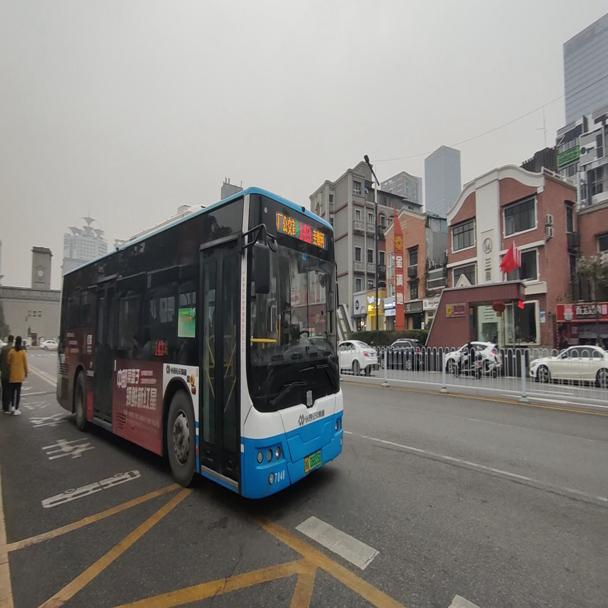bus: (53, 184, 343, 501)
screen: (149, 329, 167, 358), (297, 220, 312, 243)
